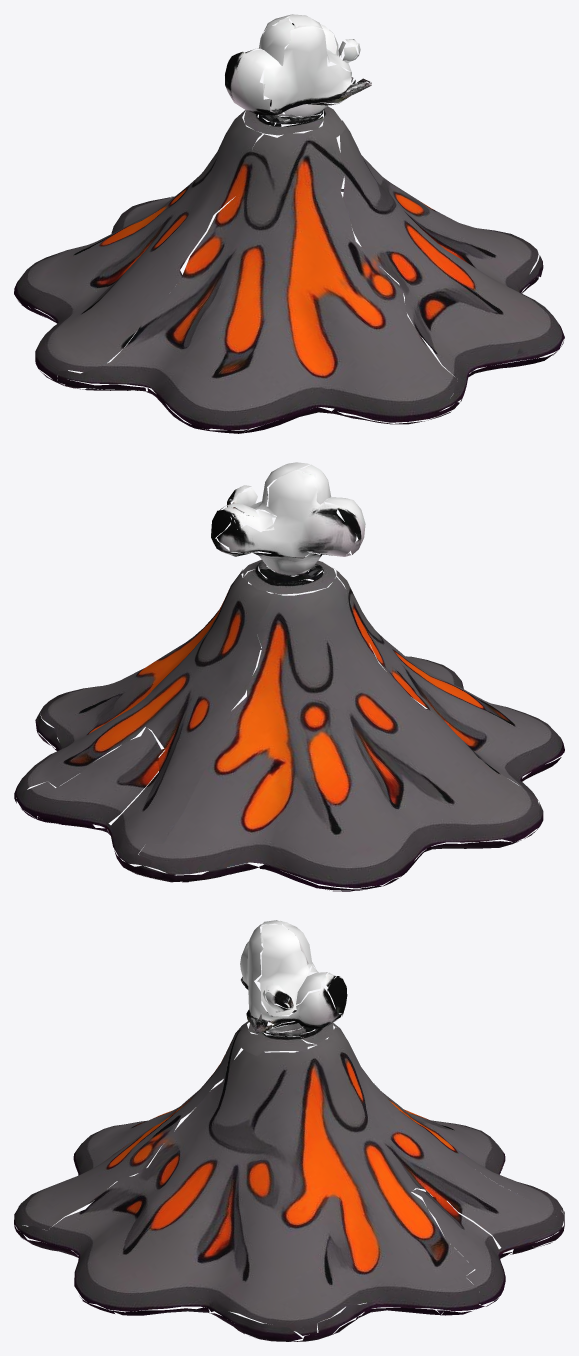
The model's file is volkan_dag.glb.
3 views of the same model, one above another, from view 1: azimuth 30°, elevation 25°; view 2: azimuth 150°, elevation 25°; view 3: azimuth 270°, elevation 25° (orthographic). The views are drawn at different scales.
Visible parts, largest first — view 1: geometry_0; view 2: geometry_0; view 3: geometry_0.
Boxes of the visible parts, <box> form: geometry_0: <box>14,14,564,433</box>; geometry_0: <box>14,462,564,891</box>; geometry_0: <box>14,920,564,1341</box>.
Size of the model in its own units: 1 by 0.6053 by 0.9999.
1 material, 1 textured.
